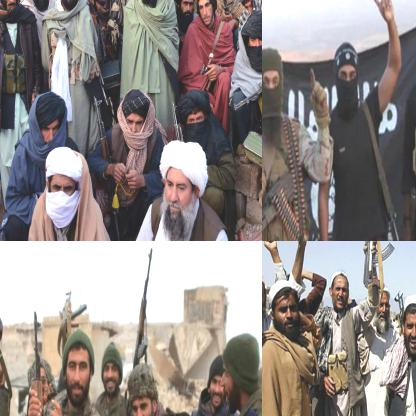rifle: (88, 94, 126, 240), (124, 246, 159, 371), (262, 159, 313, 240), (232, 29, 261, 152), (19, 308, 48, 415), (361, 241, 397, 293), (59, 289, 94, 341), (0, 241, 8, 374)
